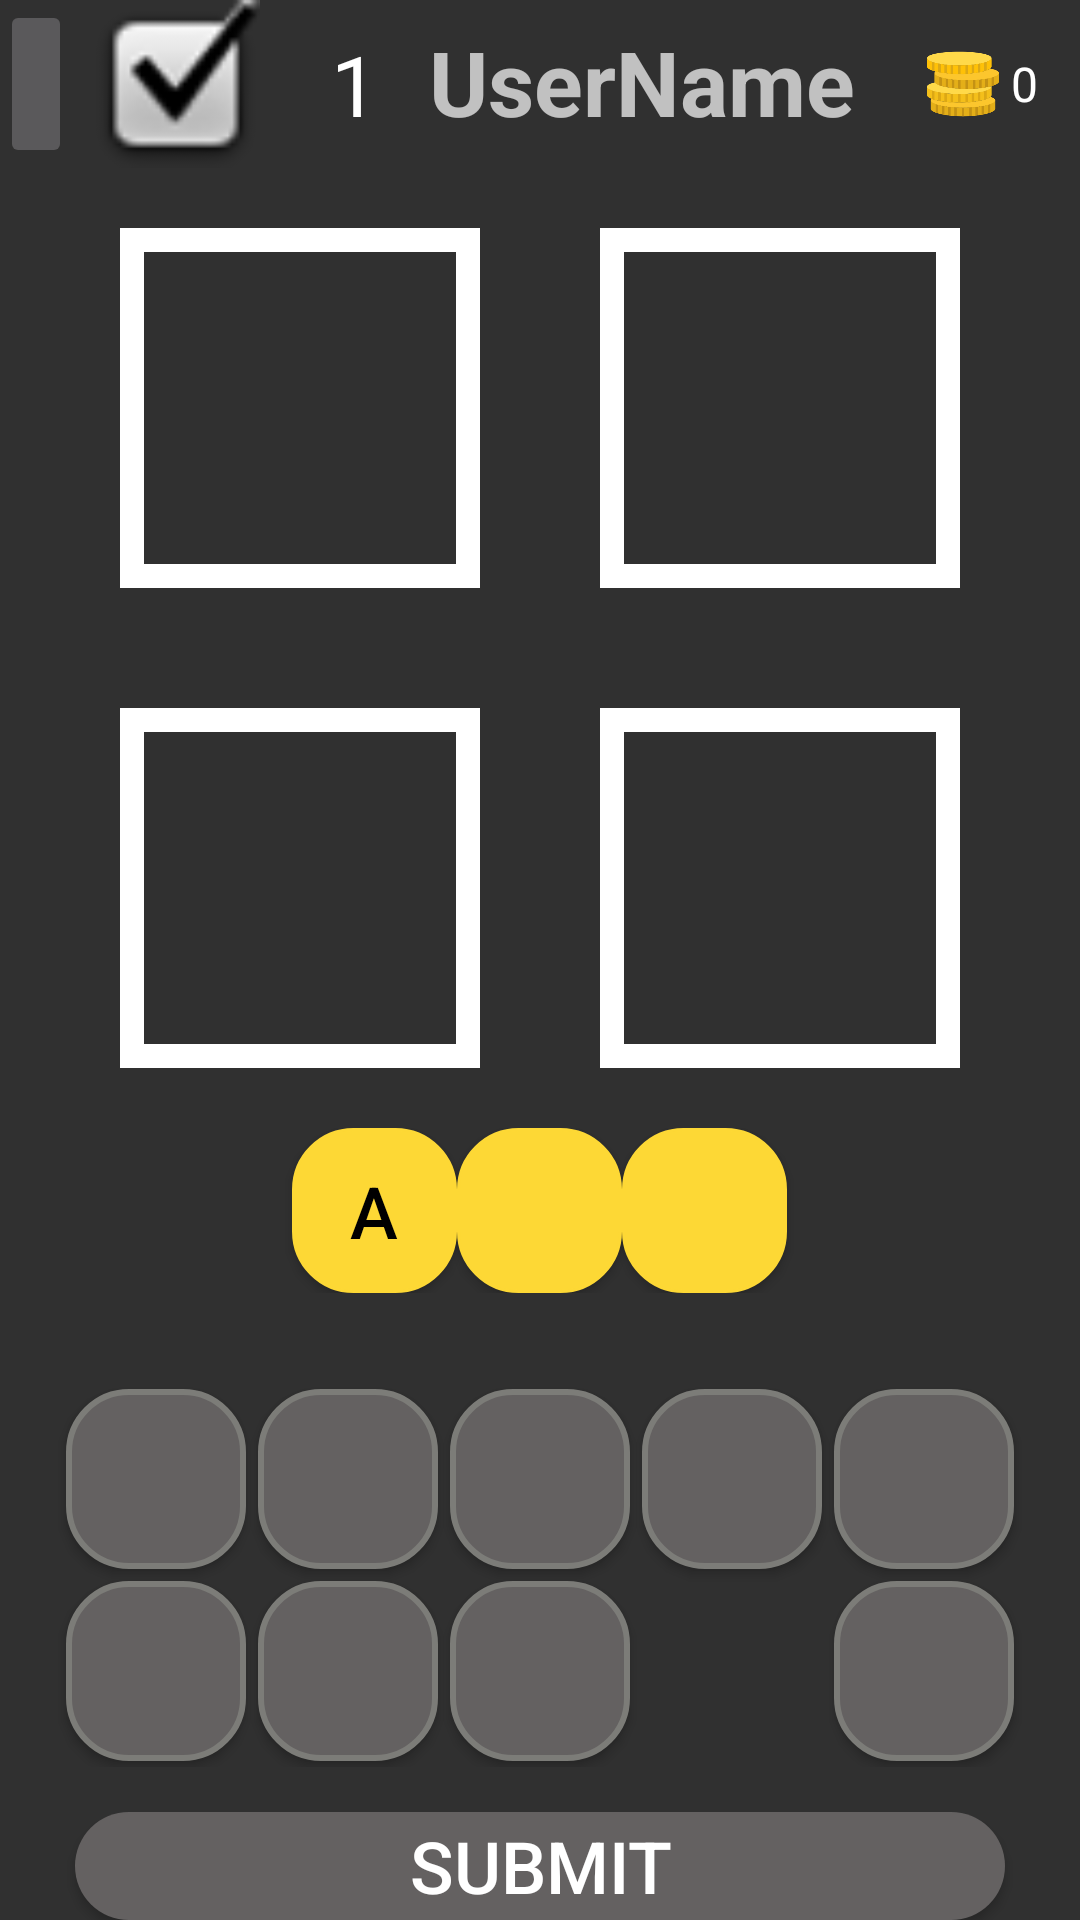

Named icons in this screenshot (1080px×1920px) and their centers, point (x, y):
coins: point (963, 84)
